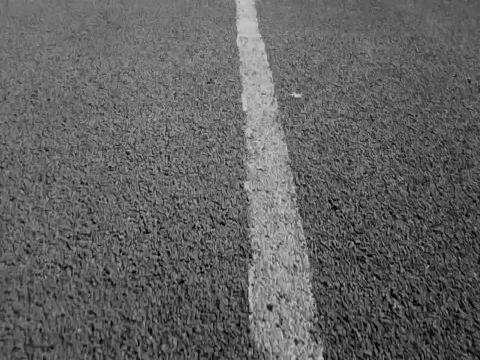Lines: (236, 0, 328, 360)
